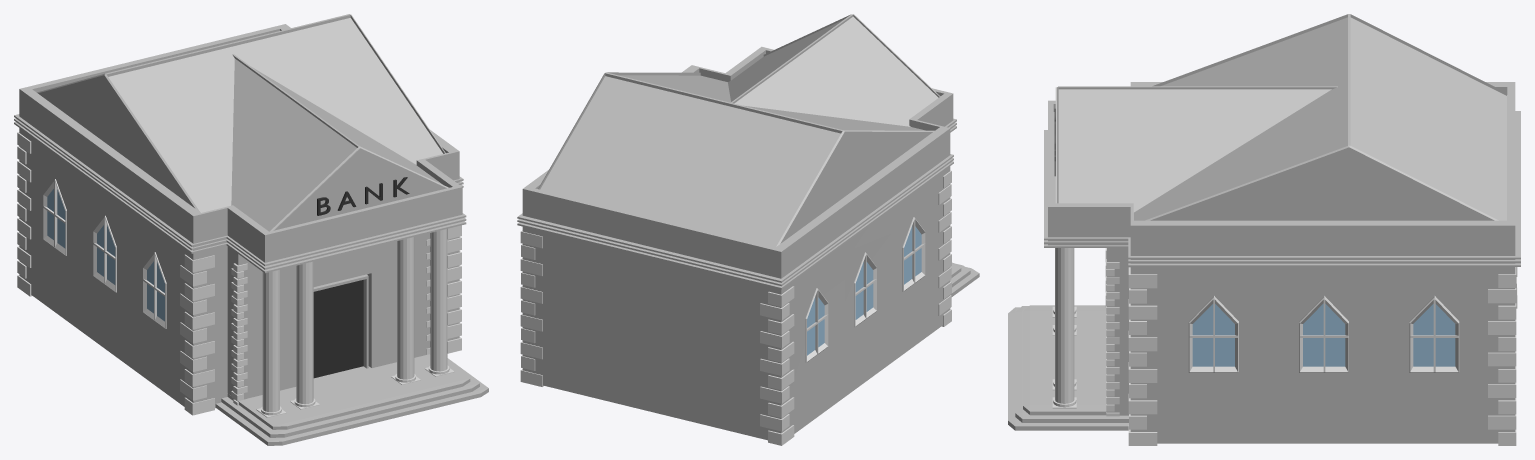
Rendered from low-poly-bank-building.fbx.
3 views of the same model, side by side, from view 1: azimuth 30°, elevation 25°; view 2: azimuth 150°, elevation 25°; view 3: azimuth 270°, elevation 25° (orthographic). The views are drawn at different scales.
Visible parts, largest first — view 1: 58, 28, 15, 43, 2, 73; view 2: 58, 28, 43, 2; view 3: 58, 28, 2, 43.
Part boxes in pixels (left/top/right/bottom): 58: left=14, top=14, right=488, bottom=445; 28: left=17, top=132, right=461, bottom=415; 15: left=313, top=280, right=363, bottom=378; 43: left=43, top=179, right=454, bottom=417; 2: left=47, top=189, right=164, bottom=321; 73: left=317, top=177, right=409, bottom=215; 58: left=517, top=14, right=979, bottom=440; 28: left=520, top=170, right=951, bottom=445; 43: left=805, top=217, right=925, bottom=362; 2: left=807, top=226, right=921, bottom=355; 58: left=1008, top=14, right=1520, bottom=443; 28: left=1055, top=248, right=1517, bottom=445; 2: left=1192, top=303, right=1455, bottom=366; 43: left=1052, top=296, right=1459, bottom=408.
Bounding box in the file's own units: 502 × 469 × 743.
